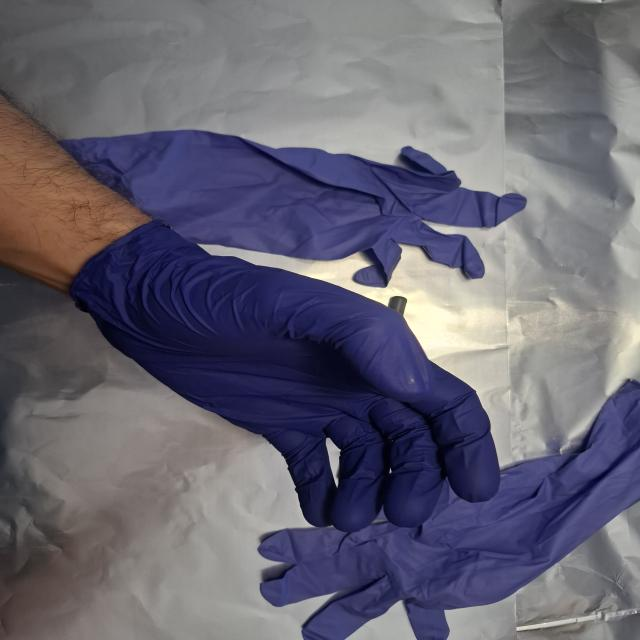glove_on: (65, 218, 505, 535)
